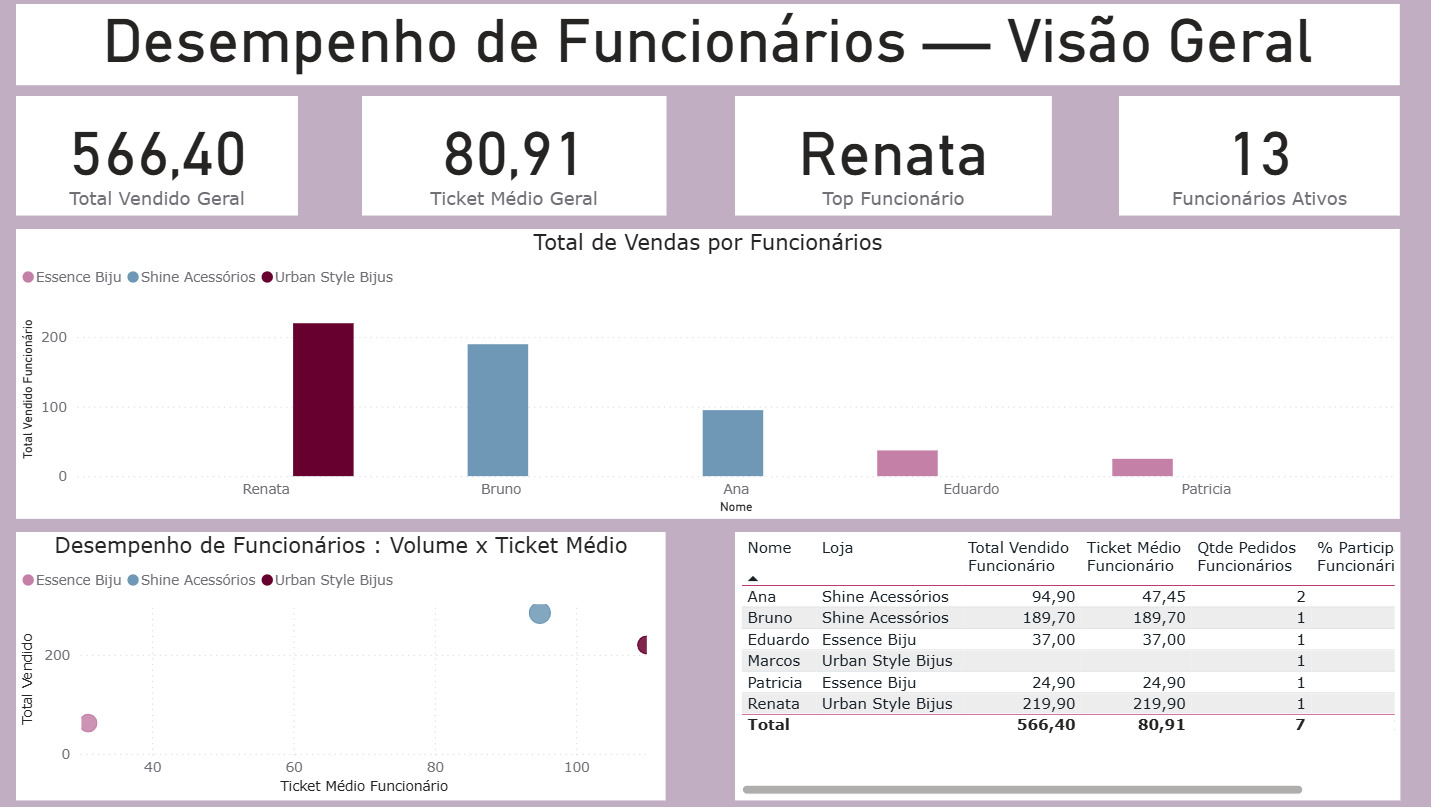

The dashboard page shown, as its layout file describes it:
{"tool":"powerbi","page":{"name":"Desempenho por Funcionário","canvas":[1280,720],"ordinal":1},"visuals":[{"type":"clusteredColumnChart","title":"Total de Vendas por Funcionários","fields":{"Category":["acessoryhub vw_funcionarios_padronizados.Nome"],"Y":["acessoryhub vw_funcionarios_padronizados.Total Vendido Funcionário"],"Series":["acessoryhub vw_lojas_padronizadas.Loja"]},"box":[23.9,207.5,1227.2,257.1],"z":0},{"type":"scatterChart","title":"Desempenho de Funcionários : Volume x Ticket Médio","fields":{"X":["acessoryhub vw_funcionarios_padronizados.Ticket Médio Funcionário"],"Y":["acessoryhub vw_funcionarios_padronizados.Total Vendido Funcionário"],"Size":["acessoryhub vw_funcionarios_padronizados.Qtde Pedidos Funcionários"],"Series":["acessoryhub vw_lojas_padronizadas.Loja"]},"box":[23.9,476.2,576.4,237.6],"z":1000},{"type":"card","fields":{"Values":["acessoryhub vw_funcionarios_padronizados.Total Vendido Geral"]},"box":[23.9,89.6,250,106.4],"z":2000},{"type":"card","fields":{"Values":["acessoryhub vw_lojas_padronizadas.Ticket Médio Geral"]},"box":[330.7,89.6,269.6,106.4],"z":3000},{"type":"card","fields":{"Values":["acessoryhub vw_funcionarios_padronizados.Top Funcionário"]},"box":[661.5,89.6,281.1,106.4],"z":4000},{"type":"card","fields":{"Values":["acessoryhub vw_funcionarios_padronizados.Funcionários Ativos"]},"box":[1002,89.6,249.2,106.4],"z":5000},{"type":"tableEx","fields":{"Values":["acessoryhub vw_funcionarios_padronizados.Nome","acessoryhub vw_lojas_padronizadas.Loja","acessoryhub vw_funcionarios_padronizados.Total Vendido Funcionário","acessoryhub vw_funcionarios_padronizados.Ticket Médio Funcionário","acessoryhub vw_funcionarios_padronizados.Qtde Pedidos Funcionários","acessoryhub vw_funcionarios_padronizados.% Participação Funcionário","acessoryhub vw_funcionarios_padronizados.Status"]},"box":[661.5,476.2,589.7,237.6],"z":6000},{"type":"card","fields":{"Values":["acessoryhub vw_funcionarios_padronizados.Título Funcionários"]},"box":[23.9,8,1227.2,71.8],"z":7000}]}

Visuals, with their boxes in screenshot pixels (x1, y1, x2, y2), scaled from the page's 1280x720 canvas onto the 1431x807 screenshot:
"Total de Vendas por Funcionários" clusteredColumnChart: {"left": 27, "top": 233, "right": 1399, "bottom": 521}
"Desempenho de Funcionários : Volume x Ticket Médio" scatterChart: {"left": 27, "top": 534, "right": 671, "bottom": 800}
card - acessoryhub vw_funcionarios_padronizados.Total Vendido Geral: {"left": 27, "top": 100, "right": 306, "bottom": 220}
card - acessoryhub vw_lojas_padronizadas.Ticket Médio Geral: {"left": 370, "top": 100, "right": 671, "bottom": 220}
card - acessoryhub vw_funcionarios_padronizados.Top Funcionário: {"left": 740, "top": 100, "right": 1054, "bottom": 220}
card - acessoryhub vw_funcionarios_padronizados.Funcionários Ativos: {"left": 1120, "top": 100, "right": 1399, "bottom": 220}
tableEx - acessoryhub vw_funcionarios_padronizados.Nome x acessoryhub vw_lojas_padronizadas.Loja: {"left": 740, "top": 534, "right": 1399, "bottom": 800}
card - acessoryhub vw_funcionarios_padronizados.Título Funcionários: {"left": 27, "top": 9, "right": 1399, "bottom": 89}
